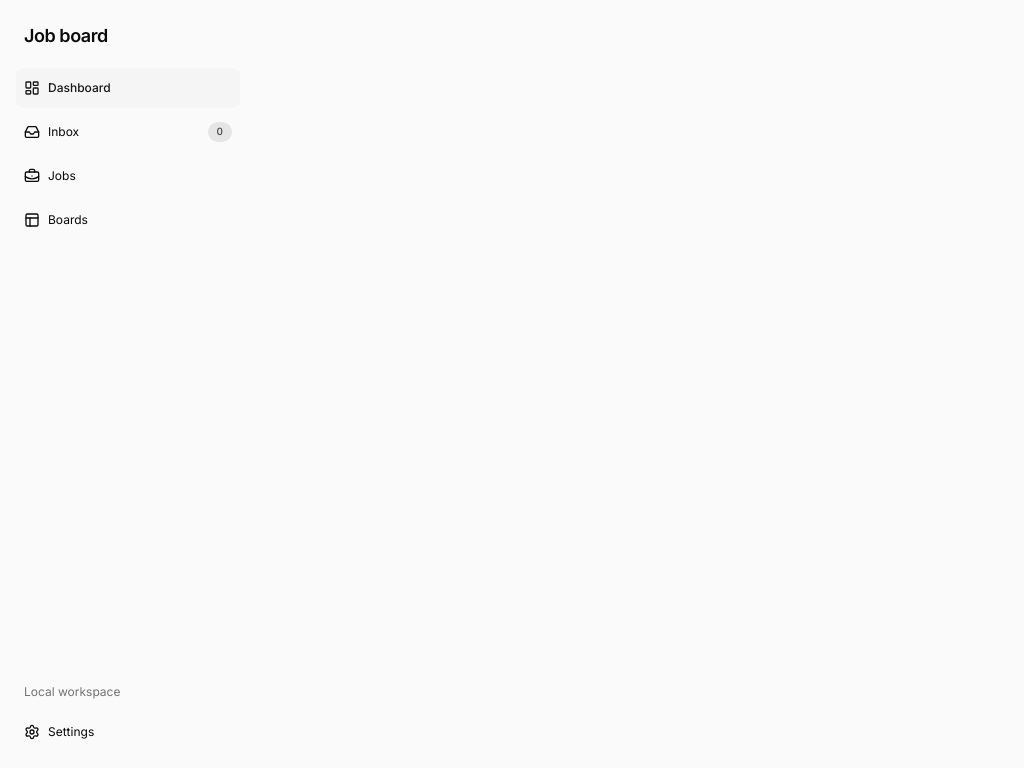
Test: applies light and dark choices and restores the saved appearance on a later visit
This screenshot has width=1024, height=768.
Later steps or results of the test are not shown.
Expected: the element "Settings" is shown, [8,676,248,760]
Click the button "Settings". click: click(128, 732)
box: [16,712,240,752]
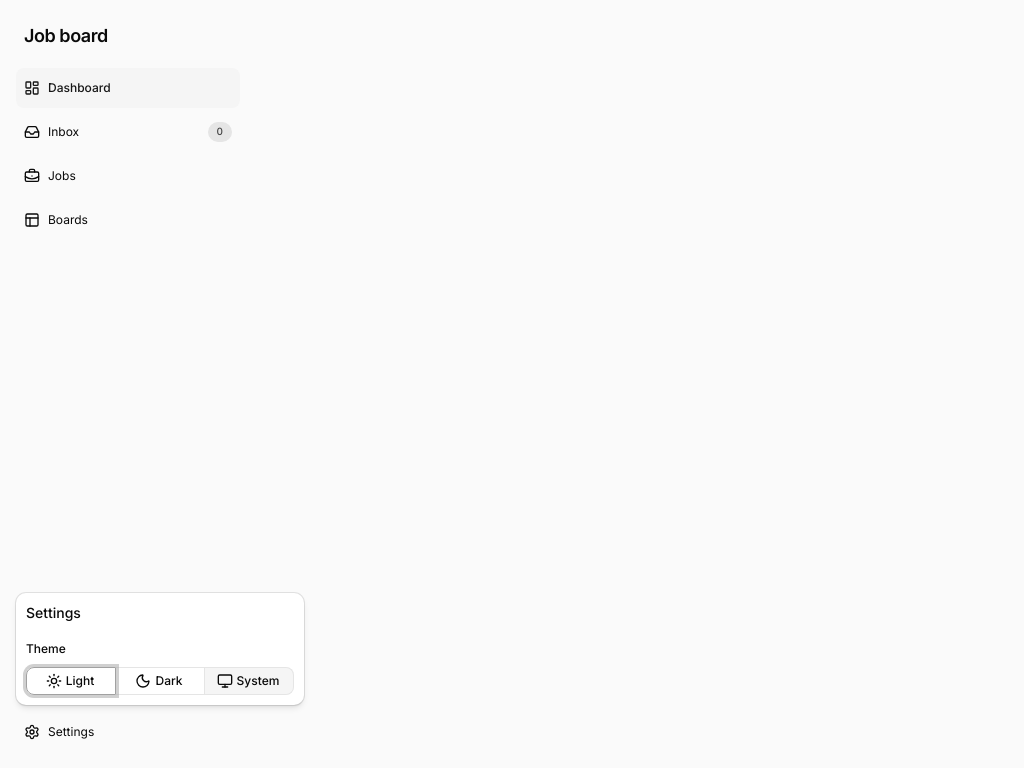
Click the button "Dark". click: click(160, 680)
box: [116,666,205,694]
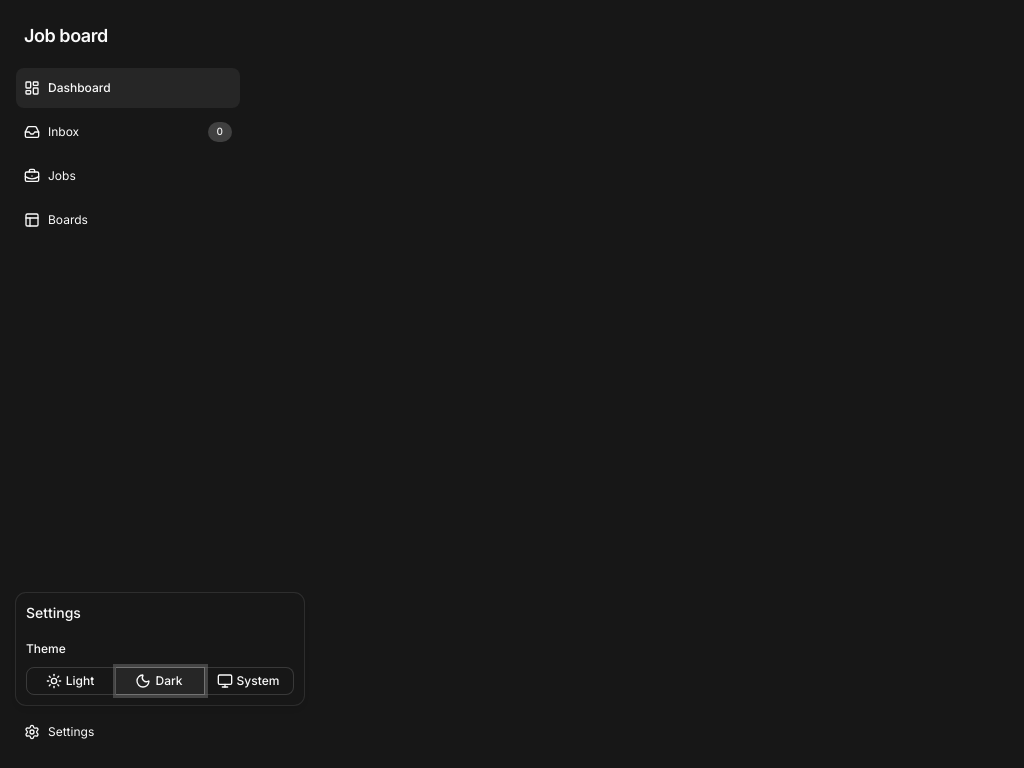
Click the button "Dark". click: click(160, 680)
box: [116,666,205,694]
Expected: the button "Dark" is pressed, [116,666,205,694]
